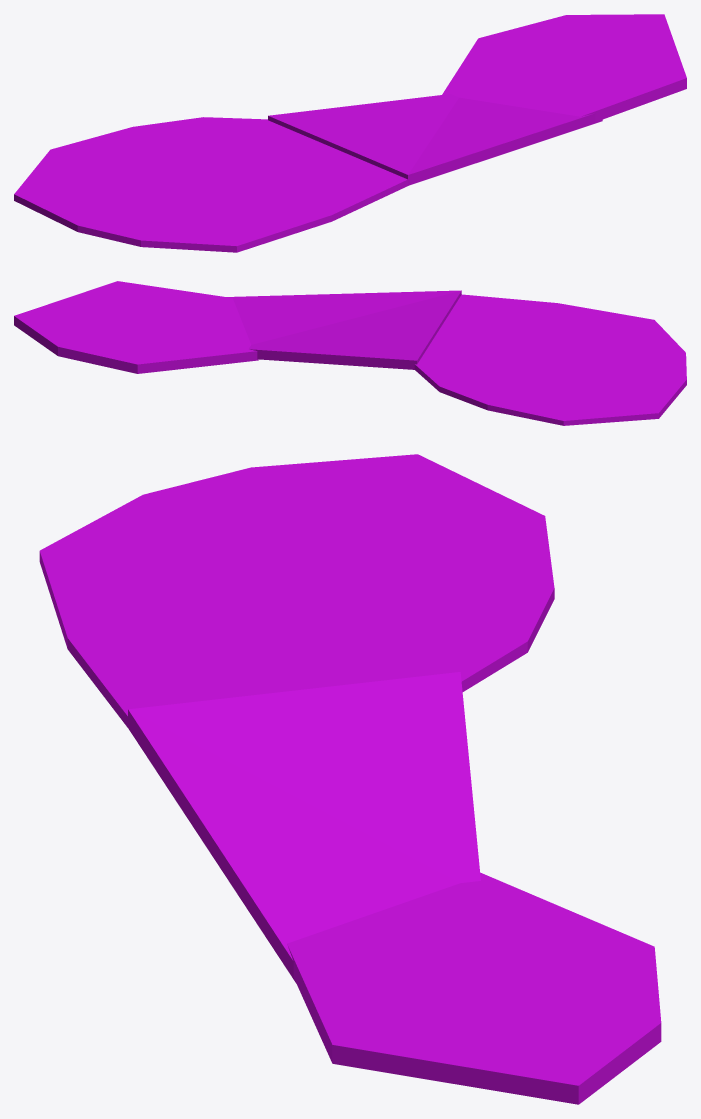
File: hole-two-floor-v4.glb
3 renders of one model, top to bottom at view 1: azimuth 30°, elevation 25°; view 2: azimuth 150°, elevation 25°; view 3: azimuth 270°, elevation 25°, orthographic. The views are drawn at different scales.
Visible parts, largest first — view 1: hole 2 floor.022, hole 2 floor.002, hole 2 floor.015; view 2: hole 2 floor.022, hole 2 floor.002, hole 2 floor.015; view 3: hole 2 floor.022, hole 2 floor.015, hole 2 floor.002.
Part boxes in pixels (bbox=[...]): hole 2 floor.022: bbox=[14, 117, 407, 252]; hole 2 floor.002: bbox=[442, 14, 686, 121]; hole 2 floor.015: bbox=[268, 94, 602, 185]; hole 2 floor.022: bbox=[414, 294, 686, 425]; hole 2 floor.002: bbox=[14, 281, 258, 373]; hole 2 floor.015: bbox=[227, 290, 461, 369]; hole 2 floor.022: bbox=[39, 454, 554, 727]; hole 2 floor.015: bbox=[128, 672, 480, 983]; hole 2 floor.002: bbox=[287, 872, 661, 1104].
Size of the model in its own units: 25.59 by 1.47 by 11.39.
